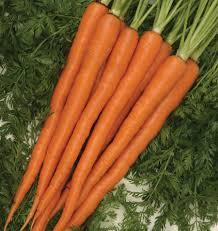Organic: (2, 1, 218, 231)
